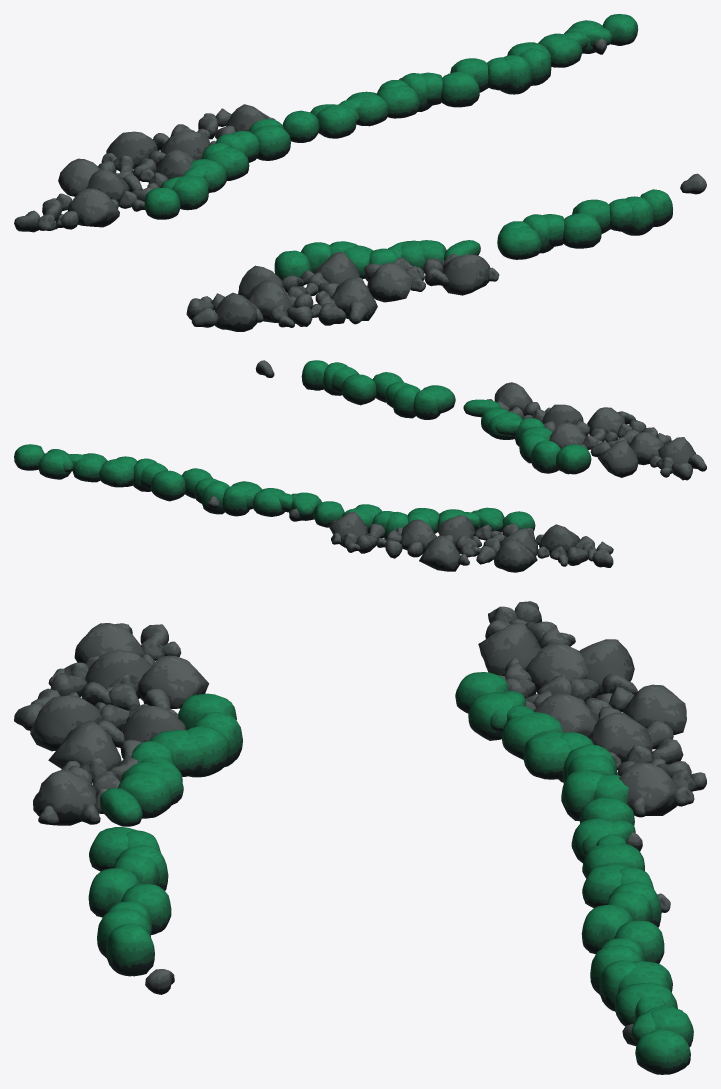
File: Props lvl 2.fbx
3 renders of one model, top to bottom at view 1: azimuth 30°, elevation 25°; view 2: azimuth 150°, elevation 25°; view 3: azimuth 270°, elevation 25°, orthographic. The views are drawn at different scales.
Parts seen in each view (by area): view 1: rock.006; view 2: rock.006; view 3: rock.006.
Boxes of the visible parts, bbox=[...] form: rock.006: bbox=[14, 14, 706, 331]; rock.006: bbox=[14, 360, 706, 572]; rock.006: bbox=[14, 601, 706, 1074].
Size of the model in its own units: 3062 by 172 by 1951.
